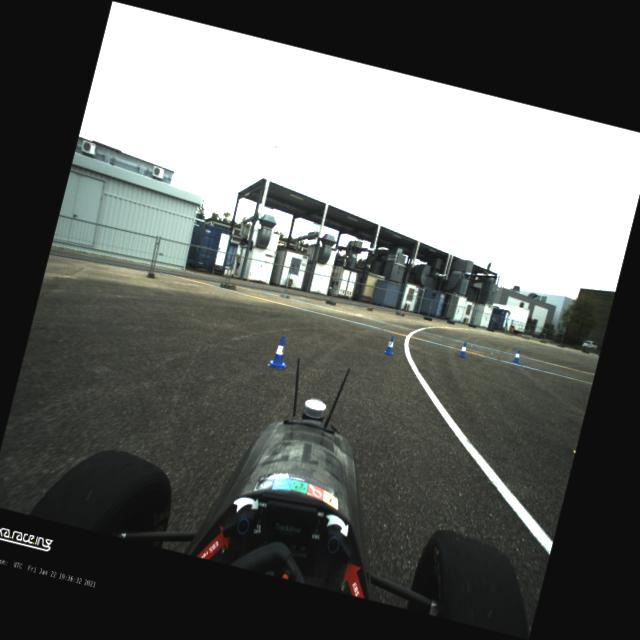blue_cone: (266, 334, 292, 371), (382, 334, 399, 358), (457, 340, 470, 360), (511, 348, 522, 364)
